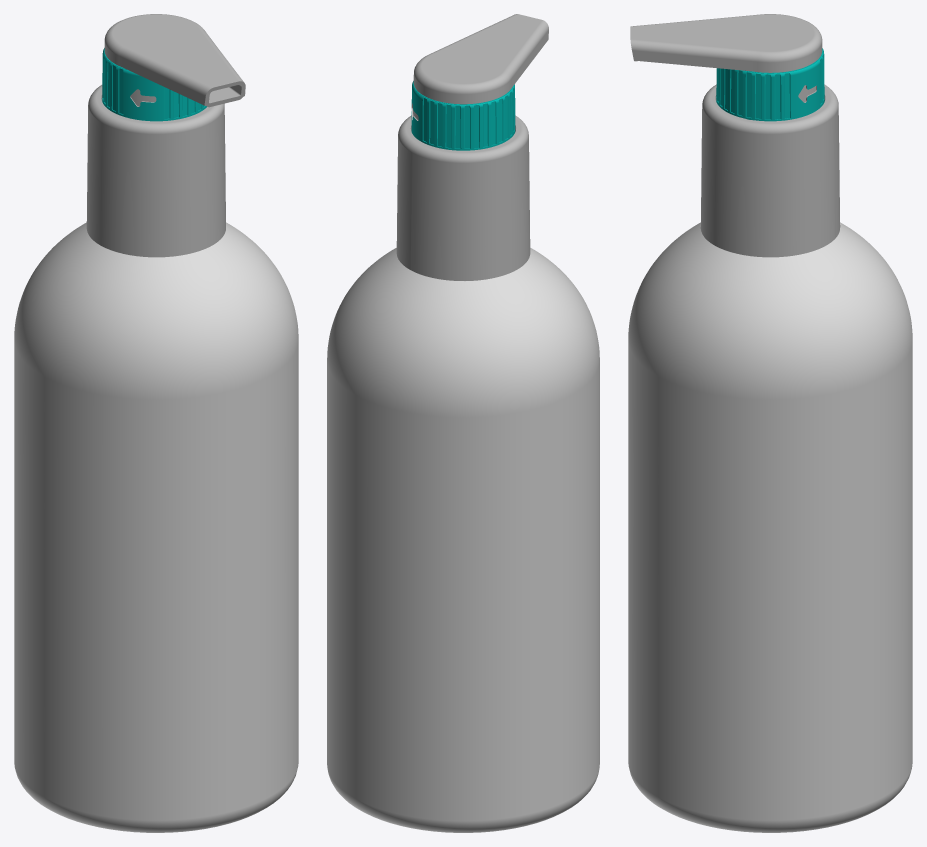
File: FutureBottle.glb
3 renders of one model, left to right at view 1: azimuth 30°, elevation 25°; view 2: azimuth 150°, elevation 25°; view 3: azimuth 270°, elevation 25°, orthographic. The views are drawn at different scales.
Parts seen in each view (by area): view 1: EFW_24_410_Bottle, Future_Closure_24_410, Future_Fenix_Actuator, Future_Ring_Ribbed; view 2: EFW_24_410_Bottle, Future_Closure_24_410, Future_Fenix_Actuator, Future_Ring_Ribbed; view 3: EFW_24_410_Bottle, Future_Closure_24_410, Future_Fenix_Actuator, Future_Ring_Ribbed.
Part boxes in pixels (bbox=[...]): EFW_24_410_Bottle: bbox=[14, 222, 298, 832]; Future_Closure_24_410: bbox=[86, 85, 225, 257]; Future_Fenix_Actuator: bbox=[104, 14, 245, 107]; Future_Ring_Ribbed: bbox=[102, 48, 206, 121]; EFW_24_410_Bottle: bbox=[327, 248, 599, 832]; Future_Closure_24_410: bbox=[396, 115, 530, 280]; Future_Fenix_Actuator: bbox=[413, 14, 548, 104]; Future_Ring_Ribbed: bbox=[411, 81, 515, 150]; EFW_24_410_Bottle: bbox=[628, 222, 912, 832]; Future_Closure_24_410: bbox=[700, 84, 840, 257]; Future_Fenix_Actuator: bbox=[630, 14, 822, 72]; Future_Ring_Ribbed: bbox=[716, 48, 824, 121].
Size of the model in its own units: 0.6197 by 1.8 by 0.6197.
